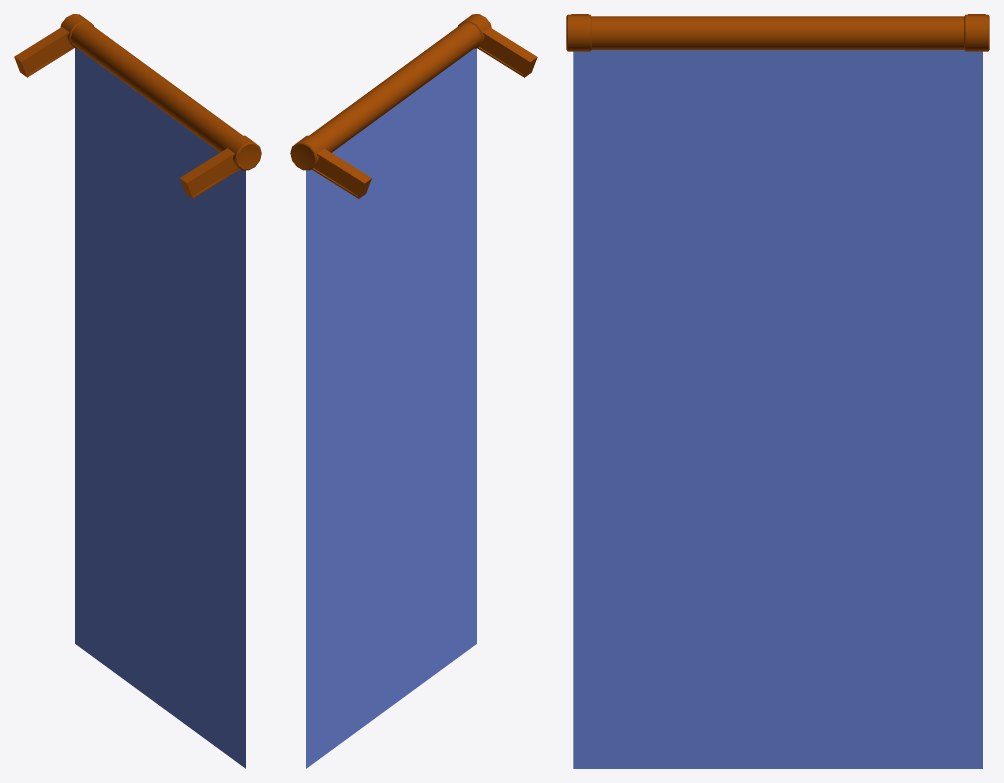
Rendered from Banner3.fbx.
The picture shows the model from 3 angles, left to right: view 1: azimuth 30°, elevation 25°; view 2: azimuth 150°, elevation 25°; view 3: azimuth 270°, elevation 25°; orthographic projection. The views are drawn at different scales.
Visible parts, largest first — view 1: Flag_Flag, Flag_Pole; view 2: Flag_Flag, Flag_Pole; view 3: Flag_Flag, Flag_Pole.
Boxes of the visible parts, x1,y1,x2,y2 form: Flag_Flag: [75, 48, 245, 768]; Flag_Pole: [14, 14, 261, 198]; Flag_Flag: [306, 48, 476, 768]; Flag_Pole: [290, 14, 537, 198]; Flag_Flag: [573, 50, 982, 768]; Flag_Pole: [566, 14, 989, 51].
Bounding box in the file's own units: 21.98 × 180 × 91.67.
